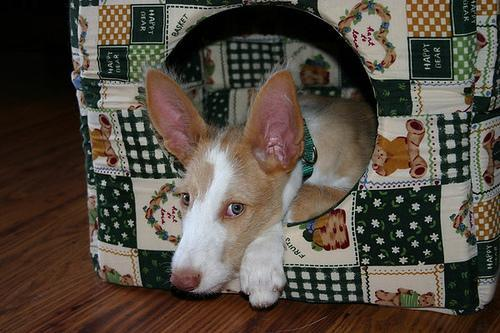Ibizan_hound: (143, 66, 377, 307)
